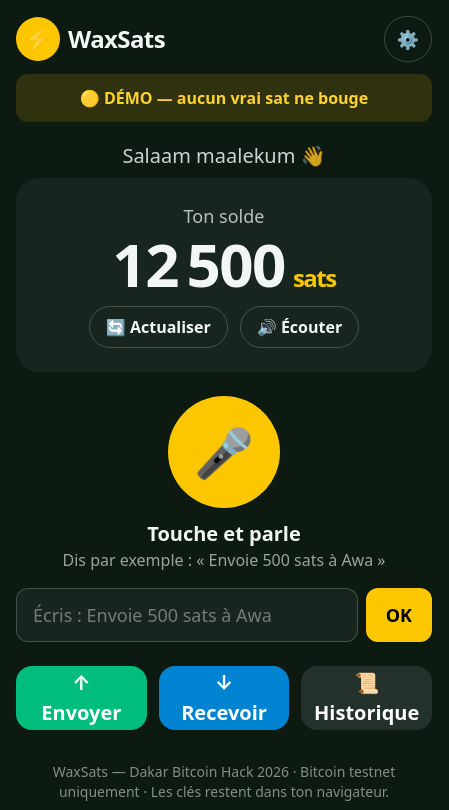
Test: WaxSats app — demo mode flows › send without amount shows a French error, not a crash
Expected: the element with test id "balance" is shown, [112,223,336,305]
Click the button "↑Envoyer" at (81, 698), box [16,666,147,730]
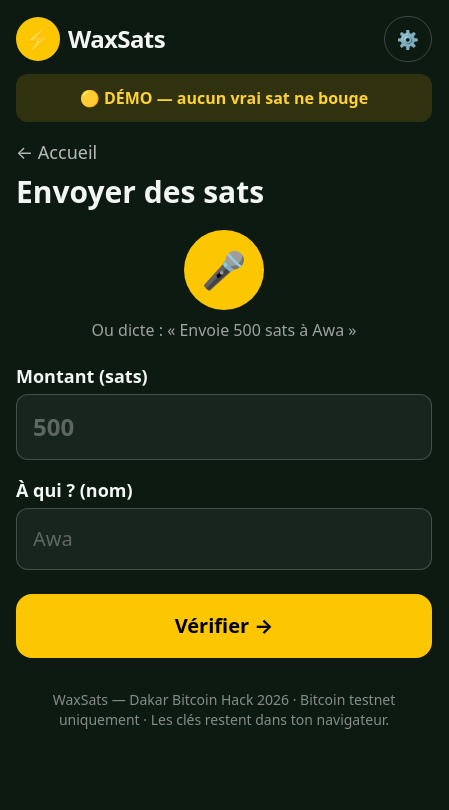
Click the button "Vérifier →" at (224, 626), box [16,594,432,658]
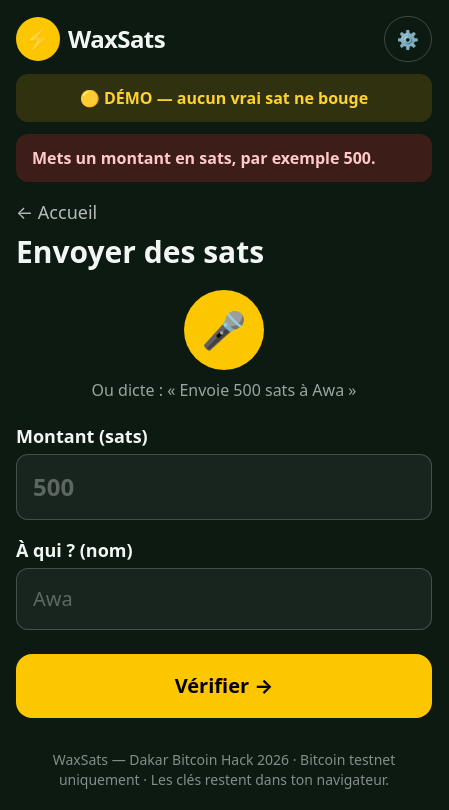
Expected: the message shows "Mets un montant", [32,147,376,169]
